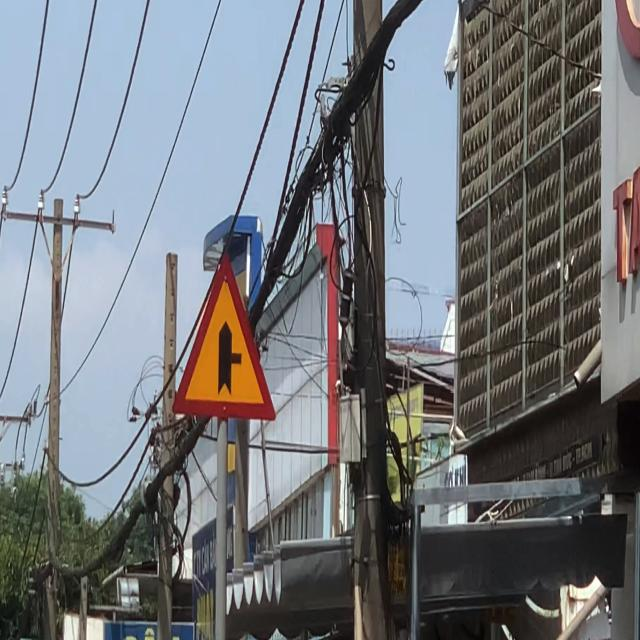Giao voi duong khong uu tien: (166, 241, 281, 431)
